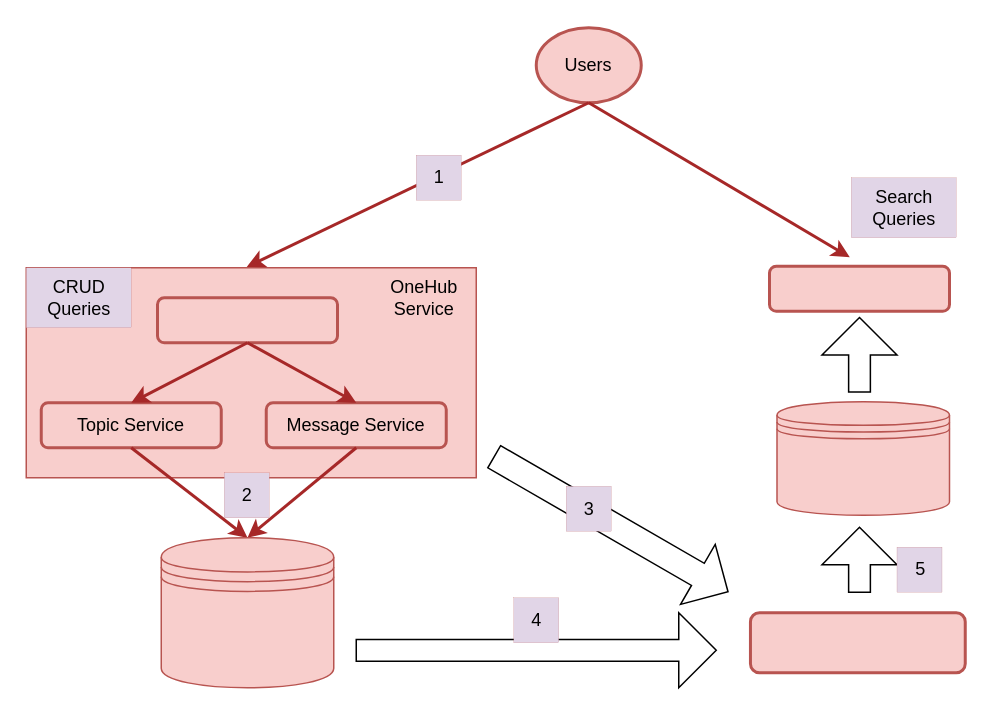
Image size: 993x714. Some labels were removed from this diagram. Here are the shapes that lost their labels. From the top down, the centre of each, then its label:
At (858,288): "Search Service".
At (246,320): "grpc-gateway".
At (863,457): "Search Store (Etc Elastic, Typesense)".
At (247,612): "Datastore (Postgres)".
At (857,642): "Sync Service + Queue".
